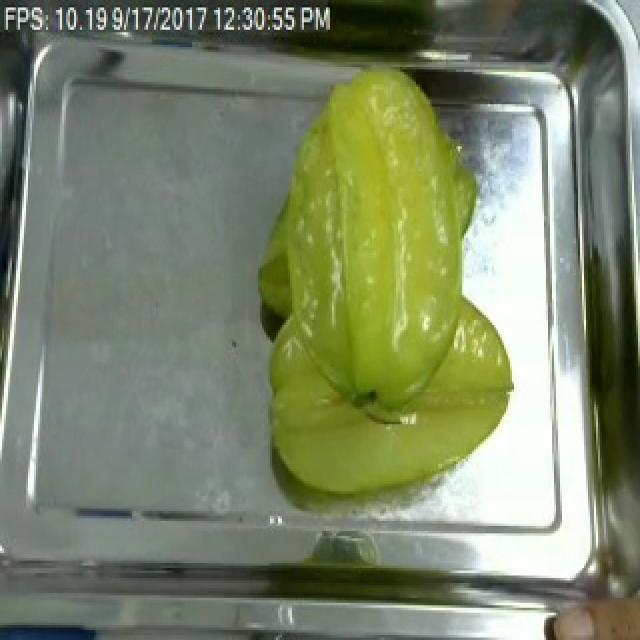fruit: (252, 62, 490, 432)
